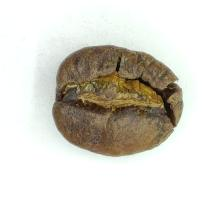NG: (63, 49, 179, 128)
